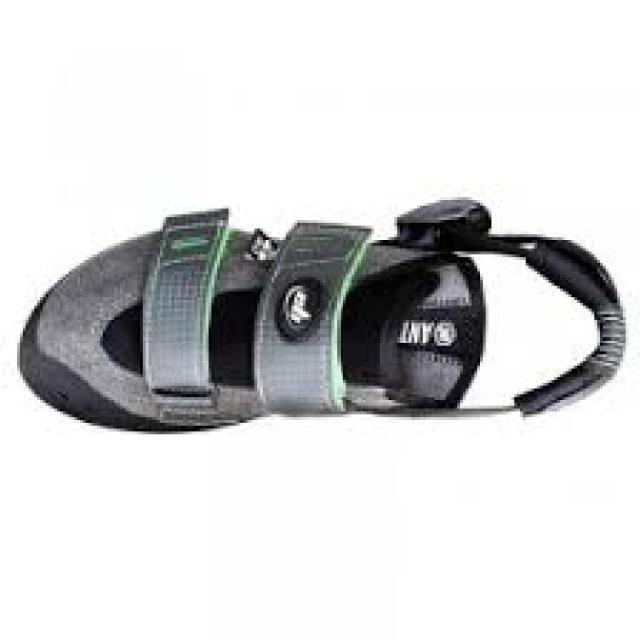climbing-shoes: (16, 202, 628, 433)
